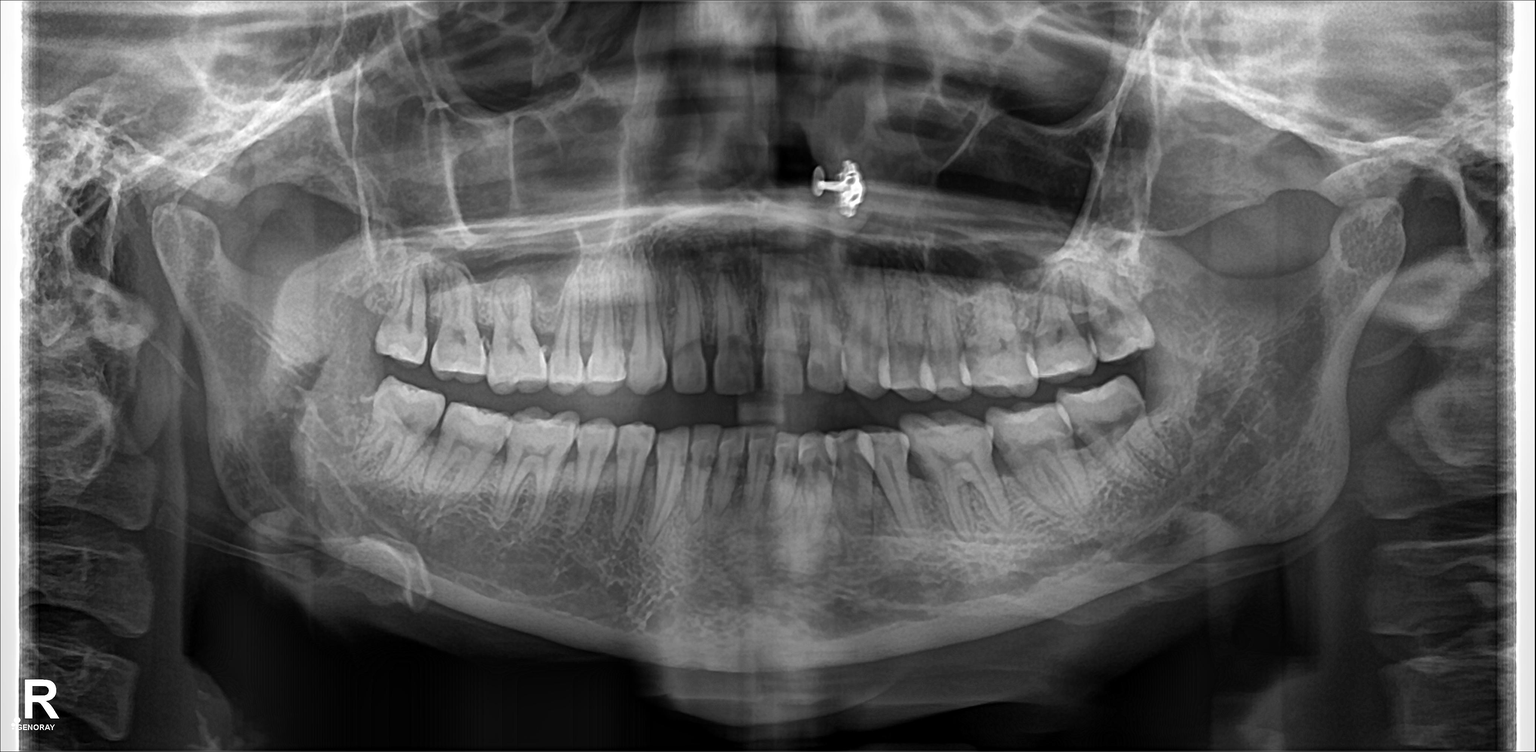Impacted Third Molar: (1065, 389, 1175, 489), (369, 382, 438, 471)
Missing Tooth: (348, 259, 384, 347)
